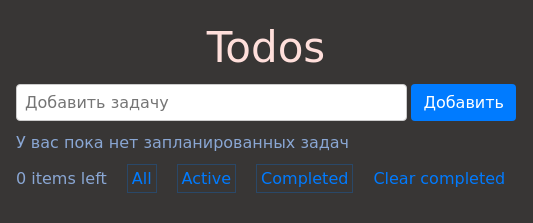
Test: Тестирование App компонента › Добавляет новый todo при вводе входного значения и нажатии клавиши "Enter".
Type "New Todo" into the field with placeholder "Добавить задачу" at {"x": 212, "y": 102}, box [16,84,408,121]
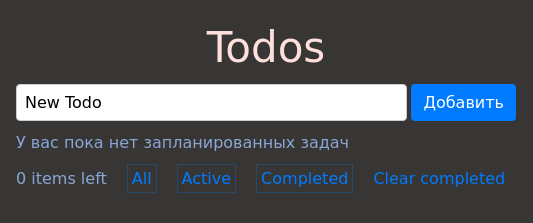
Press Enter in the field with placeholder "Добавить задачу", box [16,84,408,121]
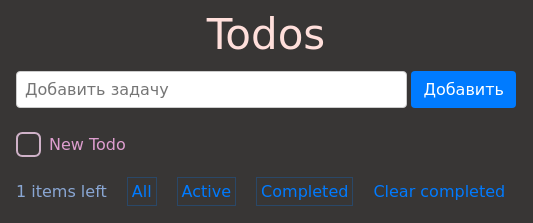
expect the text "New Todo" is shown: met, box [49,135,126,154]
